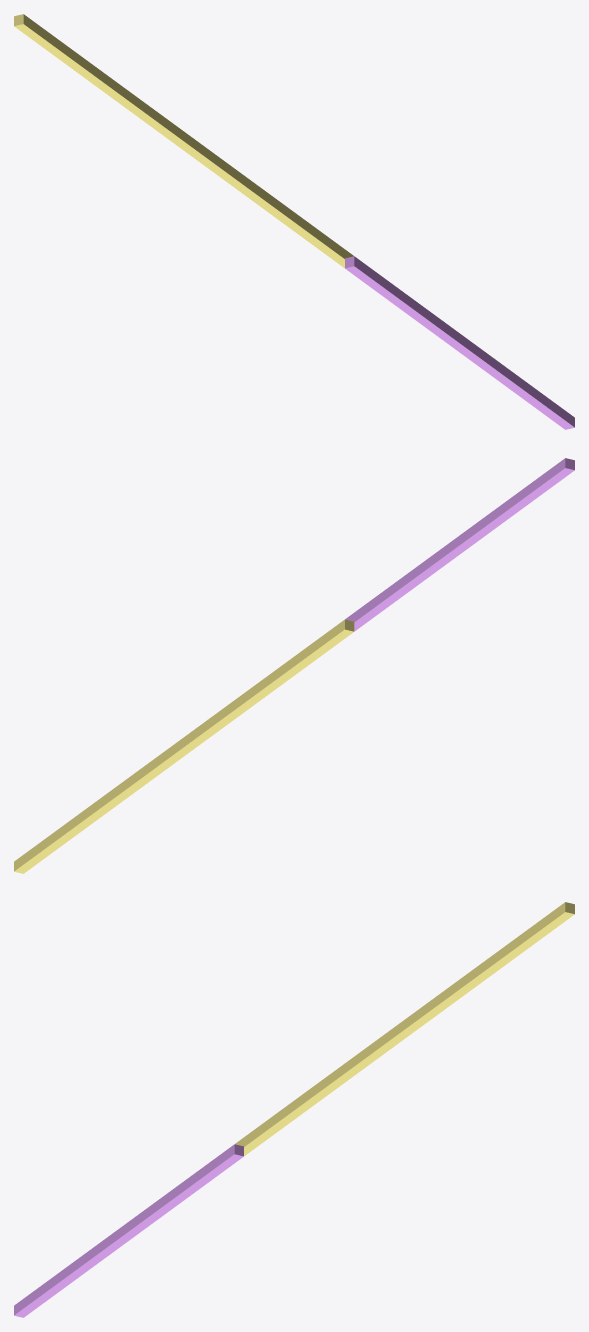
File: light_path_highspec.glb
3 views of the same model, one above another, from view 1: azimuth 30°, elevation 25°; view 2: azimuth 150°, elevation 25°; view 3: azimuth 330°, elevation 25° (orthographic).
Parts seen in each view (by area): view 1: beam_fiber_to_grating, beam_grating_to_camera; view 2: beam_fiber_to_grating, beam_grating_to_camera; view 3: beam_fiber_to_grating, beam_grating_to_camera.
Boxes of the visible parts, bbox=[...] form: beam_fiber_to_grating: bbox=[14, 14, 353, 268]; beam_grating_to_camera: bbox=[345, 256, 574, 429]; beam_fiber_to_grating: bbox=[14, 619, 354, 873]; beam_grating_to_camera: bbox=[345, 458, 574, 631]; beam_fiber_to_grating: bbox=[235, 902, 574, 1156]; beam_grating_to_camera: bbox=[14, 1144, 243, 1317].
Bounding box in the file's own units: 0.005 × 0.005 × 0.5.
